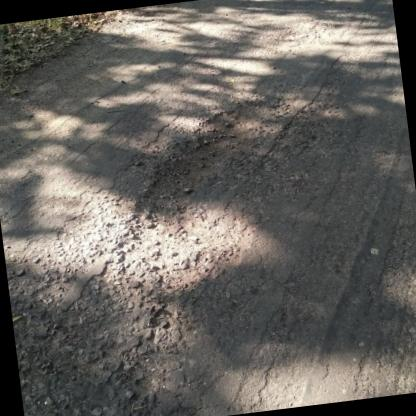pothole: (118, 97, 294, 224)
